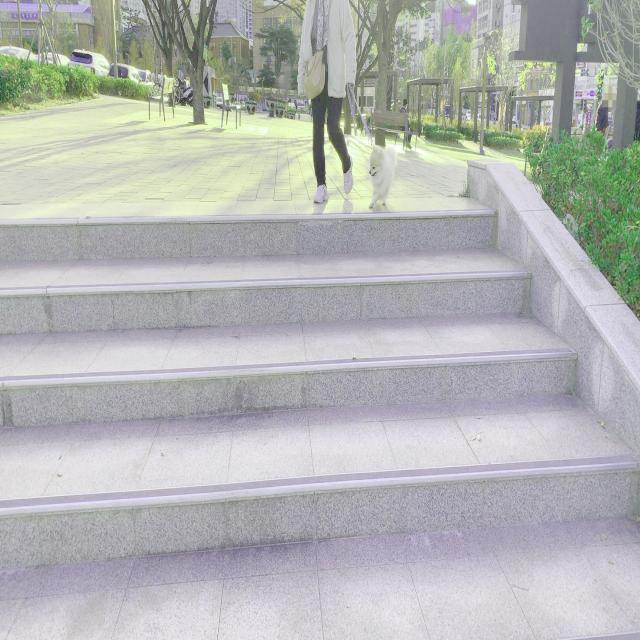Leashed_Dog: (327, 80, 397, 208)
